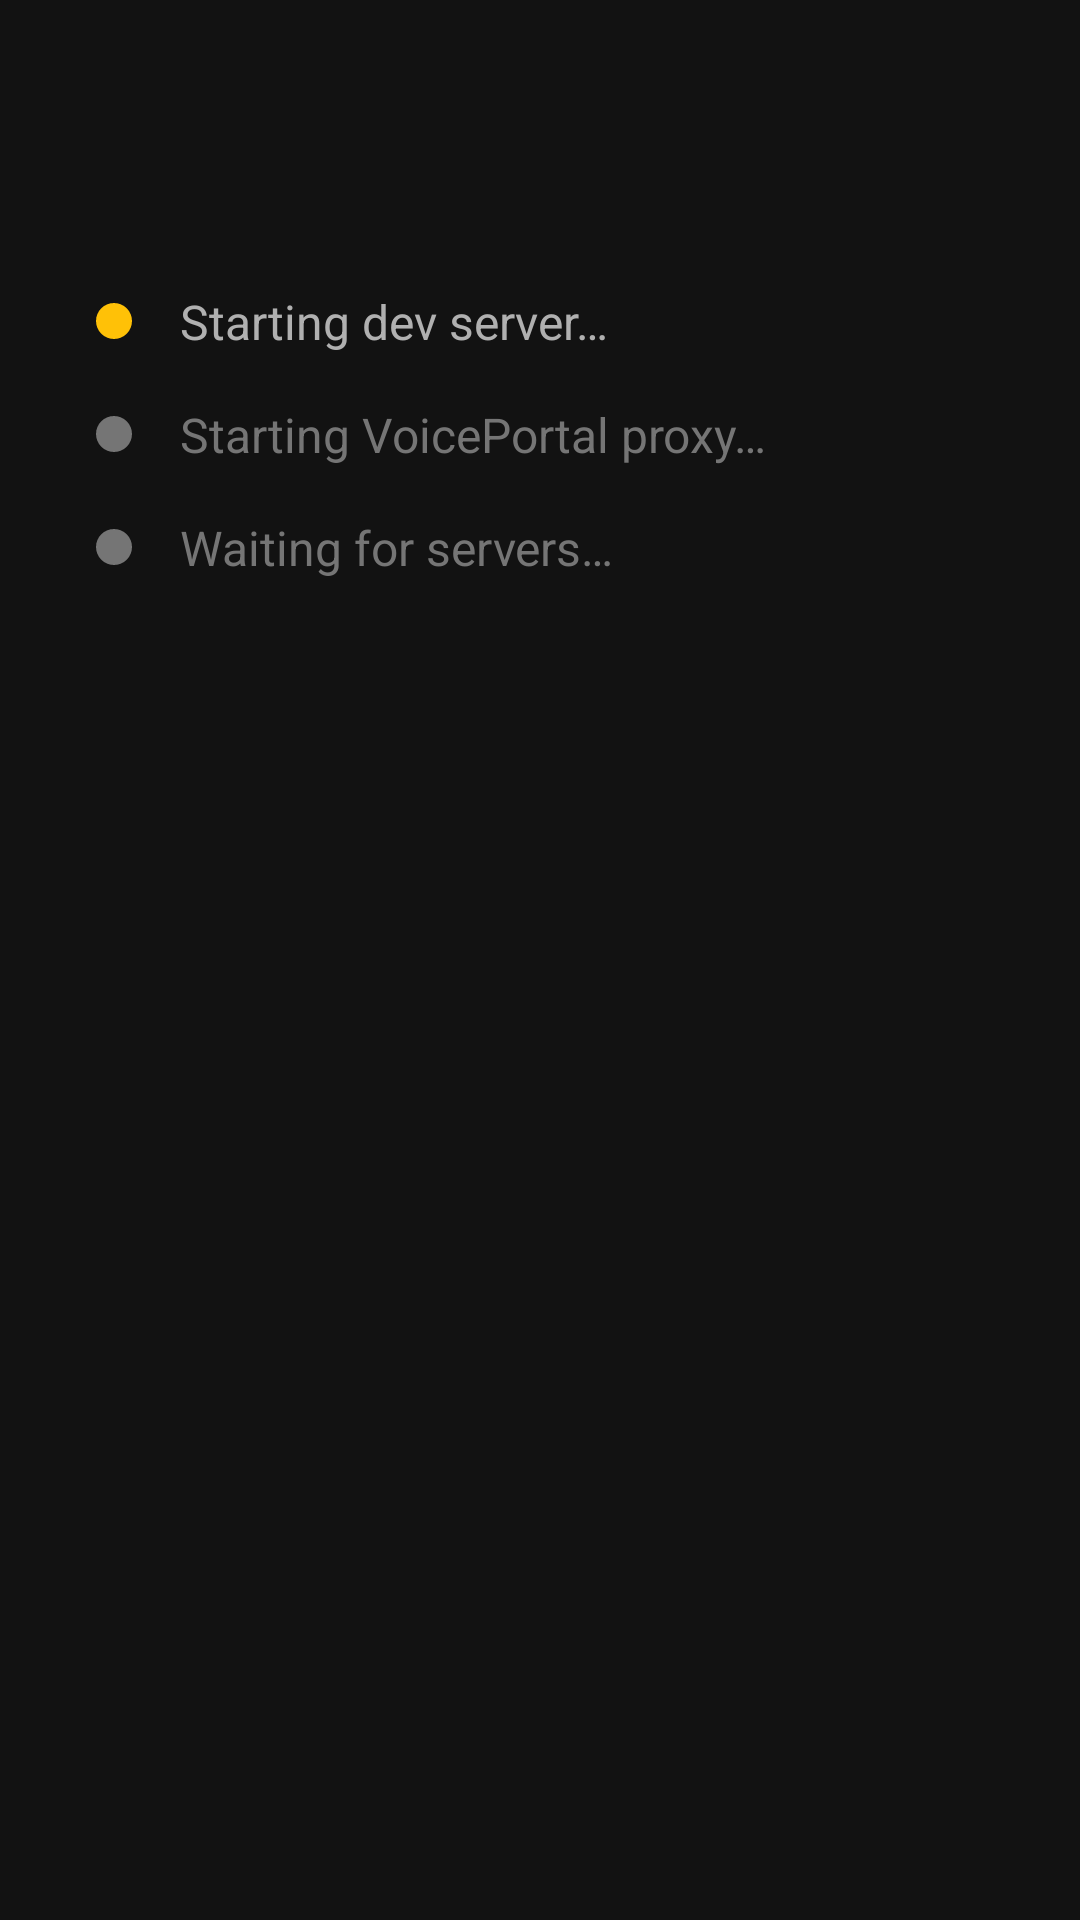

Where icons sit on this 1080*1920 app screen, as (x1, y1, x2, y2):
status dot: (96, 303, 132, 339), (96, 416, 132, 452), (96, 529, 132, 565)
